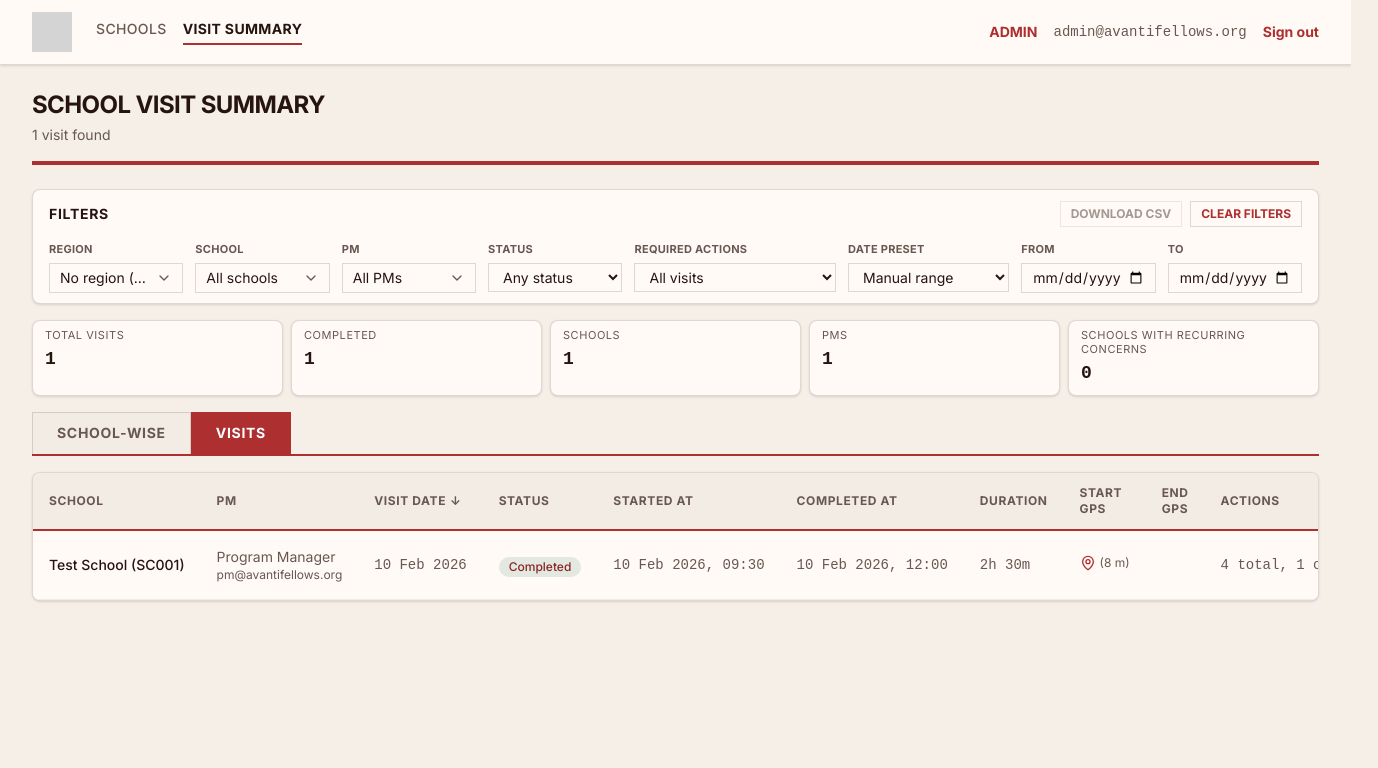
Test: SchoolVisitSummaryPage › rendering › offers the Regions in view, including Schools with no region
The width and height of the screenshot is (1378, 768).
Click the button "No region (non-JNV)" at (116, 278), box [49,263,183,293]
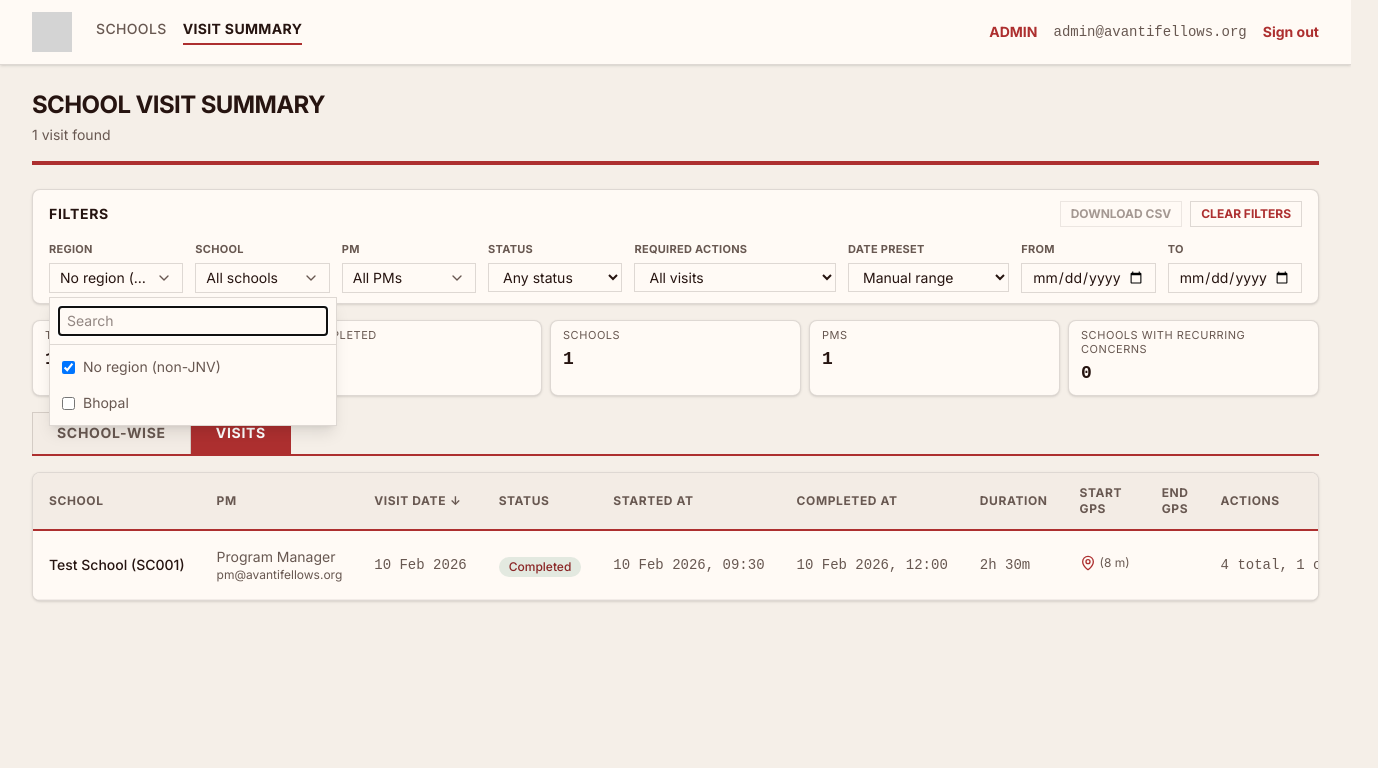
Expected: the checkbox labelled "No region (non-JNV)" is checked, [62,360,75,374]
Expected: the checkbox labelled "Bhopal" is not checked, [62,396,75,410]
